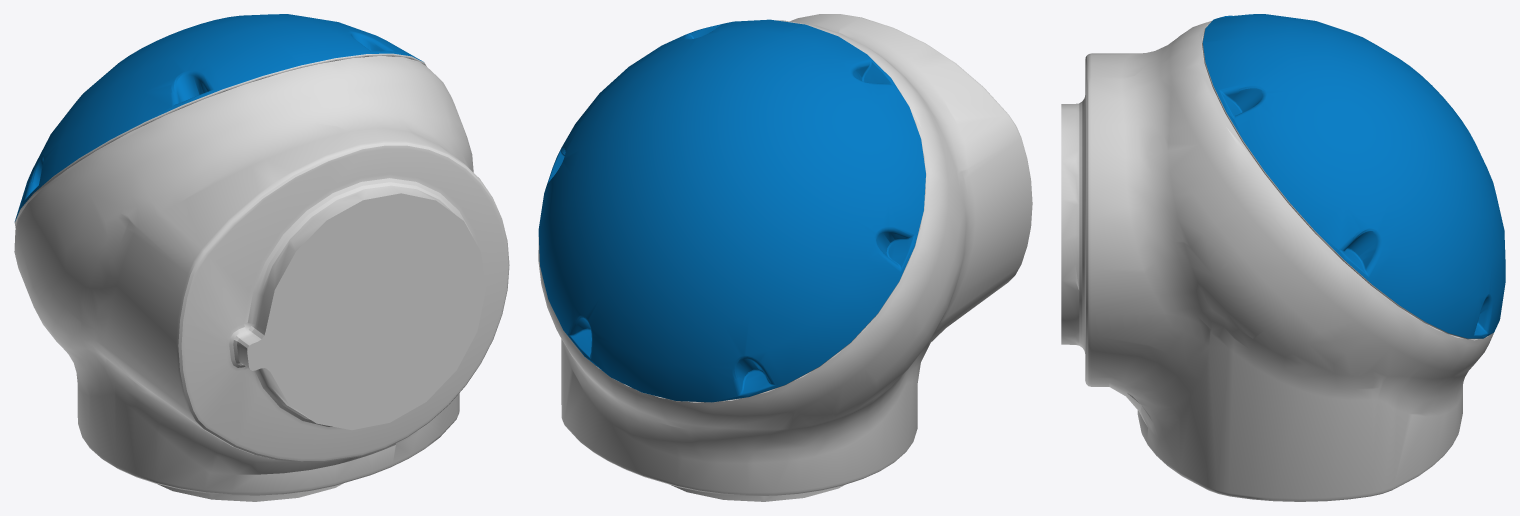
3 renders of one model, left to right at view 1: azimuth 30°, elevation 25°; view 2: azimuth 150°, elevation 25°; view 3: azimuth 270°, elevation 25°, orthographic. The views are drawn at different scales.
Visible parts, largest first — view 1: Link 1 S; view 2: Link 1 S; view 3: Link 1 S.
Part boxes in pixels (x1,y1,x2,y2): Link 1 S: (14, 14, 509, 501); Link 1 S: (538, 14, 1032, 501); Link 1 S: (1061, 14, 1505, 501).
Bounding box in the file's own units: 0.2196 × 0.2213 × 0.2216.
